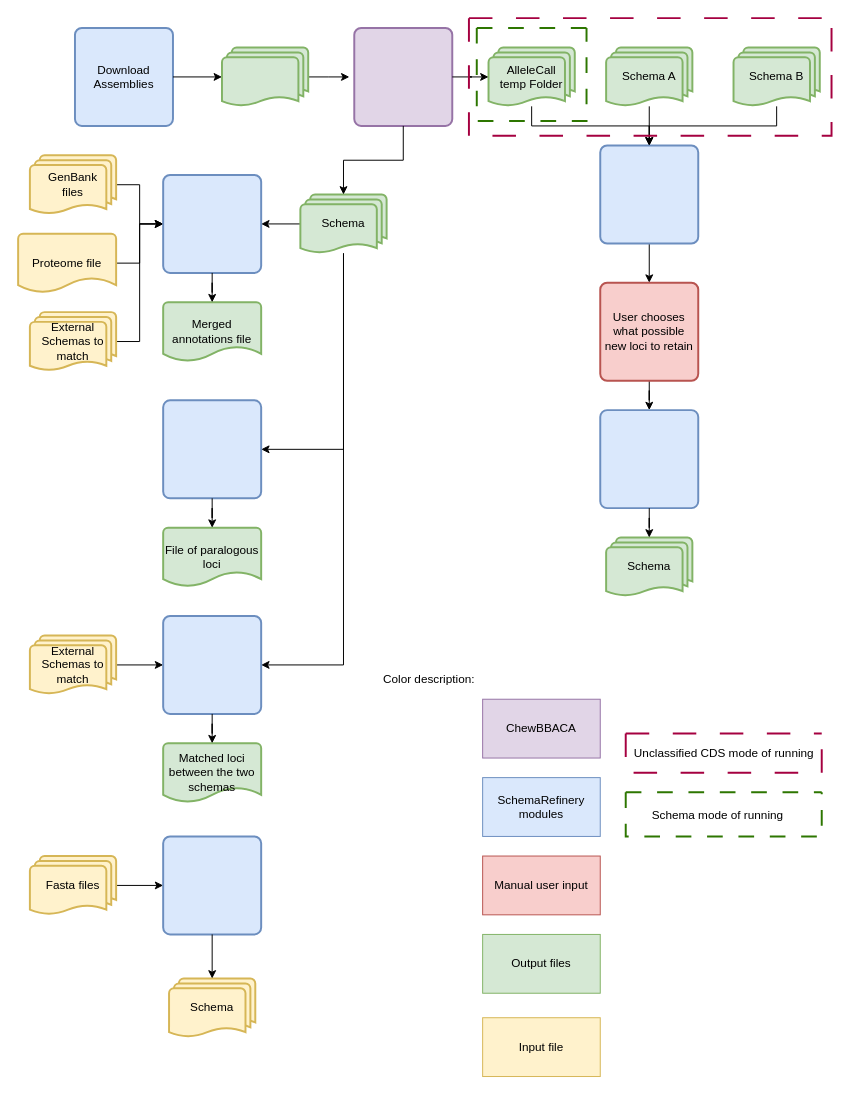
Some shapes in this 849 by 1094 pixel diagram are drawn without their labels. Here are the shapes that lost their labels. From the top down, the centre of each, then its label:
pixel 264 76: Assemblies
pixel 403 76: ChewBBACA SchemaCreate and AlleleCall
pixel 649 194: IdentifySpurious Genes
pixel 212 223: SchemaAnnotation
pixel 212 449: IdentifyParalagous Loci
pixel 649 459: CreateSchema Structure
pixel 212 664: MatchSchema
pixel 212 885: AdaptLoci
